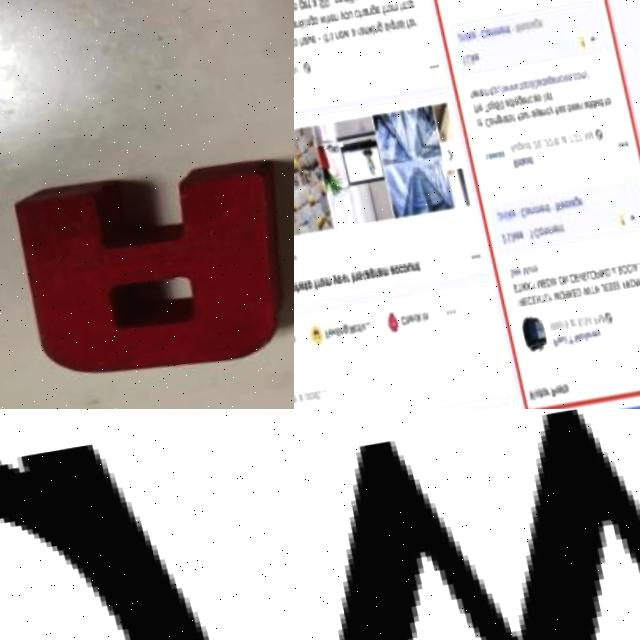0: (492, 101, 500, 114), (527, 81, 535, 94), (541, 139, 547, 150)
1: (545, 139, 549, 149), (522, 232, 525, 242), (457, 58, 460, 68)
2: (493, 236, 499, 247), (526, 142, 532, 153), (537, 140, 543, 151), (568, 135, 573, 145)
4: (577, 318, 584, 329)
5: (523, 81, 531, 94), (488, 104, 495, 113), (574, 319, 579, 329)
6: (567, 318, 574, 332), (548, 137, 555, 150)
7: (570, 135, 577, 146), (562, 136, 567, 146)
9: (554, 321, 562, 334), (530, 141, 536, 152)
A: (0, 155, 294, 389), (577, 133, 584, 145), (544, 278, 551, 290), (355, 270, 362, 281), (368, 269, 375, 280), (339, 325, 346, 336), (624, 266, 631, 277), (307, 0, 314, 10), (530, 80, 537, 90), (504, 146, 510, 157), (603, 269, 609, 280), (544, 324, 551, 333), (359, 9, 365, 19), (381, 267, 387, 276), (299, 37, 305, 46), (346, 29, 352, 38), (394, 21, 400, 30), (546, 338, 552, 347), (559, 321, 565, 330), (554, 137, 560, 146), (525, 112, 531, 121), (499, 101, 505, 110), (563, 202, 568, 210), (497, 117, 502, 125), (578, 104, 583, 111), (356, 28, 360, 36), (553, 108, 557, 116), (539, 80, 543, 88), (527, 25, 532, 31), (509, 101, 513, 107)
B: (562, 107, 567, 115)
C: (526, 229, 534, 242), (478, 118, 486, 131), (476, 30, 484, 43), (517, 296, 525, 309), (385, 266, 392, 277), (390, 265, 397, 276), (617, 266, 624, 277), (391, 316, 397, 327), (514, 210, 520, 221), (553, 77, 560, 85), (344, 325, 350, 334), (404, 315, 410, 324), (350, 11, 356, 20), (567, 75, 573, 82), (523, 98, 527, 106), (329, 0, 335, 5), (540, 111, 545, 117), (348, 0, 355, 3)
D: (0, 409, 294, 640), (537, 279, 544, 292), (521, 158, 528, 169), (567, 289, 574, 300), (560, 276, 567, 287), (582, 102, 588, 114), (586, 102, 592, 114), (593, 100, 599, 112), (502, 100, 508, 112), (536, 81, 540, 90)
E: (298, 0, 305, 11), (522, 297, 529, 308), (563, 289, 569, 301), (533, 280, 539, 292), (574, 273, 580, 285), (595, 284, 601, 296), (588, 101, 595, 111), (321, 328, 328, 337), (325, 15, 332, 24), (371, 7, 378, 16), (503, 211, 510, 220), (565, 105, 572, 114), (515, 98, 522, 107), (466, 33, 473, 42), (533, 22, 540, 31), (472, 105, 478, 115), (306, 36, 312, 45), (508, 269, 514, 278), (544, 227, 550, 236), (570, 200, 576, 209), (518, 159, 524, 168), (532, 111, 538, 120), (607, 283, 612, 293), (565, 276, 570, 286), (469, 56, 476, 63), (504, 270, 509, 279), (568, 106, 574, 113), (318, 329, 323, 337), (400, 316, 405, 324), (528, 97, 533, 105), (474, 90, 479, 98), (515, 298, 519, 308), (526, 267, 530, 275), (508, 234, 512, 242), (533, 207, 537, 215), (554, 204, 558, 212), (547, 78, 551, 86), (559, 76, 563, 84), (517, 25, 521, 33), (333, 0, 339, 5), (583, 334, 588, 340), (468, 93, 472, 99), (497, 29, 501, 35)
F: (313, 328, 321, 341), (612, 282, 619, 294), (304, 280, 310, 292), (377, 6, 382, 19), (402, 20, 407, 32), (344, 0, 349, 4)
G: (565, 197, 573, 211), (511, 96, 519, 110), (359, 268, 367, 281), (371, 21, 379, 34), (384, 20, 392, 33), (304, 15, 312, 28), (366, 4, 374, 17), (596, 269, 604, 282), (528, 108, 535, 121), (333, 324, 340, 335), (294, 0, 301, 11), (510, 143, 516, 155), (530, 20, 535, 31), (490, 116, 496, 125), (542, 77, 548, 86)
H: (395, 1, 403, 15), (320, 15, 328, 28), (585, 285, 593, 298), (354, 9, 361, 23), (294, 37, 301, 50), (464, 93, 470, 102), (397, 316, 401, 326), (479, 91, 484, 99), (470, 107, 474, 116), (549, 110, 553, 118)
I: (328, 327, 333, 339), (317, 34, 322, 46), (367, 26, 372, 38), (383, 23, 388, 35), (299, 19, 304, 31), (342, 274, 347, 286), (527, 390, 532, 402), (350, 324, 354, 334), (522, 392, 526, 402), (503, 235, 507, 245), (499, 213, 503, 223), (464, 57, 468, 67), (506, 300, 510, 310), (579, 288, 583, 298), (622, 267, 626, 277), (591, 271, 594, 282), (526, 98, 530, 106), (413, 314, 416, 324), (343, 0, 348, 6), (542, 280, 545, 290), (557, 78, 560, 87), (347, 0, 352, 5), (539, 96, 542, 104), (463, 35, 466, 43), (511, 286, 514, 294)
J: (593, 284, 598, 296)
K: (295, 19, 303, 33), (363, 26, 371, 39), (558, 291, 565, 302), (517, 283, 524, 294), (501, 212, 506, 223), (515, 160, 520, 170), (514, 284, 519, 294), (468, 55, 472, 66), (408, 315, 412, 325), (505, 235, 509, 245), (465, 34, 469, 43)
L: (322, 0, 330, 8), (398, 21, 403, 33), (535, 295, 540, 305), (578, 274, 583, 284), (325, 329, 329, 339), (554, 338, 558, 348), (499, 236, 503, 246), (462, 57, 466, 67), (461, 36, 465, 44), (574, 335, 577, 345), (498, 213, 501, 223), (537, 96, 540, 105)
M: (581, 132, 588, 144), (373, 268, 381, 278), (540, 324, 547, 335), (588, 316, 595, 327), (514, 268, 521, 279), (548, 204, 555, 215), (626, 279, 633, 290), (528, 281, 535, 292), (565, 335, 571, 346), (316, 278, 323, 287), (527, 207, 534, 216), (485, 30, 492, 38), (388, 4, 394, 13), (535, 229, 541, 238), (512, 26, 518, 35), (491, 30, 498, 37), (540, 228, 546, 236), (522, 209, 528, 217), (575, 74, 581, 81)
N: (344, 273, 351, 284), (526, 296, 533, 307), (554, 277, 561, 288), (592, 271, 599, 282), (403, 264, 410, 273), (330, 32, 337, 41), (389, 22, 396, 31), (369, 25, 376, 34), (329, 14, 336, 23), (548, 226, 555, 235), (359, 27, 365, 36), (301, 19, 307, 28), (363, 9, 369, 18), (579, 333, 585, 342), (510, 161, 517, 168), (330, 328, 335, 336), (536, 207, 540, 215), (537, 111, 541, 118), (415, 315, 419, 321), (494, 215, 498, 221), (487, 120, 491, 126), (574, 106, 578, 112), (520, 99, 524, 105), (551, 79, 555, 85), (457, 36, 461, 42), (500, 29, 504, 35), (294, 20, 296, 29)
O: (612, 266, 620, 280), (549, 277, 557, 290), (580, 272, 588, 285), (310, 278, 317, 290), (297, 391, 304, 402), (394, 264, 401, 275), (550, 293, 557, 304), (620, 280, 627, 291), (569, 334, 576, 344), (328, 275, 334, 286), (339, 12, 346, 21), (382, 5, 389, 14), (543, 388, 550, 397), (529, 229, 536, 238), (600, 99, 606, 109), (298, 282, 304, 291), (334, 31, 340, 40), (404, 19, 410, 28), (481, 31, 487, 40), (482, 120, 489, 127), (531, 391, 537, 398), (575, 334, 581, 341), (519, 269, 525, 276), (513, 115, 519, 122), (571, 75, 577, 82), (482, 104, 486, 112), (294, 282, 297, 292), (518, 211, 523, 217), (516, 84, 520, 90)
P: (585, 270, 593, 284), (294, 389, 300, 403), (404, 0, 412, 10), (540, 388, 546, 399), (485, 103, 492, 112), (544, 340, 549, 350), (585, 318, 589, 328), (488, 87, 493, 95)
R: (615, 280, 623, 293), (506, 160, 513, 171), (509, 299, 516, 310), (554, 291, 561, 302), (365, 270, 370, 280), (308, 281, 312, 289), (338, 275, 342, 283), (353, 29, 357, 37), (410, 19, 413, 27), (381, 6, 384, 14), (537, 391, 540, 397), (523, 269, 526, 275), (496, 118, 499, 124), (522, 114, 525, 120), (471, 92, 474, 98), (338, 0, 342, 3), (294, 67, 295, 73)
S: (499, 269, 507, 282), (349, 271, 356, 283), (503, 285, 510, 297), (313, 0, 321, 10), (602, 283, 609, 294), (609, 268, 616, 279), (324, 33, 331, 42), (318, 0, 325, 9), (310, 18, 316, 27), (547, 388, 553, 397), (556, 107, 562, 116), (380, 24, 385, 32), (524, 392, 529, 400), (560, 203, 565, 211), (600, 284, 604, 294), (302, 392, 306, 400), (555, 387, 559, 395), (512, 233, 516, 241), (557, 203, 561, 211), (519, 143, 523, 151), (503, 116, 507, 124), (563, 76, 567, 84), (531, 97, 536, 103), (540, 95, 545, 101), (520, 26, 524, 32), (524, 25, 528, 31)
T: (558, 337, 565, 348), (531, 295, 538, 306), (305, 390, 311, 402), (302, 0, 308, 11), (582, 288, 588, 299), (478, 105, 485, 114), (320, 34, 325, 46), (402, 1, 407, 13), (400, 1, 404, 14), (295, 283, 300, 293), (354, 273, 359, 283), (508, 285, 513, 295), (409, 264, 413, 274), (529, 392, 534, 400), (552, 226, 557, 234), (539, 205, 543, 215), (522, 143, 526, 153), (564, 321, 568, 331), (558, 136, 562, 146), (502, 28, 507, 36), (514, 85, 518, 94), (348, 325, 352, 333), (500, 118, 504, 126), (598, 102, 602, 110), (467, 108, 471, 116), (543, 95, 547, 103), (482, 90, 486, 98), (552, 387, 555, 397), (340, 0, 345, 5), (485, 90, 488, 98), (356, 0, 362, 3)
U: (488, 214, 495, 225), (399, 265, 406, 274), (452, 36, 459, 45), (333, 275, 339, 285), (514, 144, 521, 152), (550, 338, 556, 346), (506, 146, 512, 153), (517, 114, 522, 122), (345, 12, 349, 20)
V: (517, 391, 525, 404), (569, 274, 576, 286), (303, 36, 309, 45), (352, 324, 357, 332)
W: (294, 409, 640, 640), (573, 287, 582, 300), (543, 293, 551, 304), (316, 16, 324, 26), (338, 30, 345, 40), (497, 87, 504, 94), (503, 86, 510, 93), (508, 85, 514, 92)
Y: (334, 9, 342, 23), (521, 281, 529, 295), (586, 330, 593, 341), (538, 295, 545, 306), (324, 274, 330, 286), (548, 320, 554, 332), (510, 116, 517, 125), (544, 106, 549, 118)
